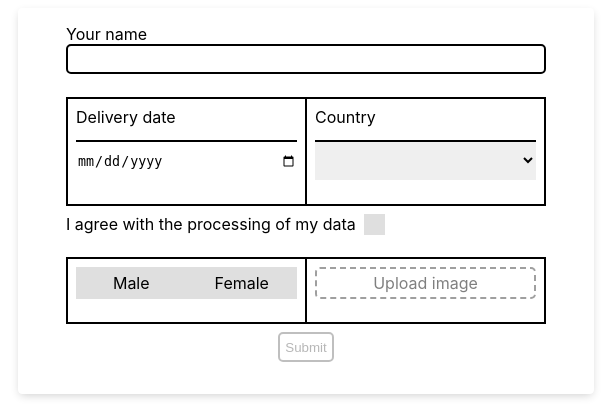
it: Form component works › submit button should be disabled with unfulfilled form
In the field: (306, 59) [66,44,546,74], type "Correct Name"
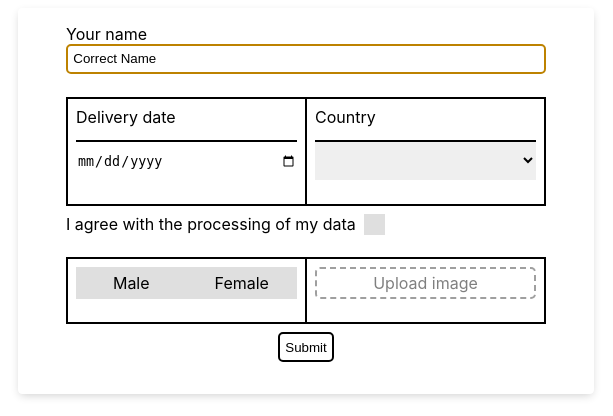
Click the button: (306, 347) [278,332,334,362]
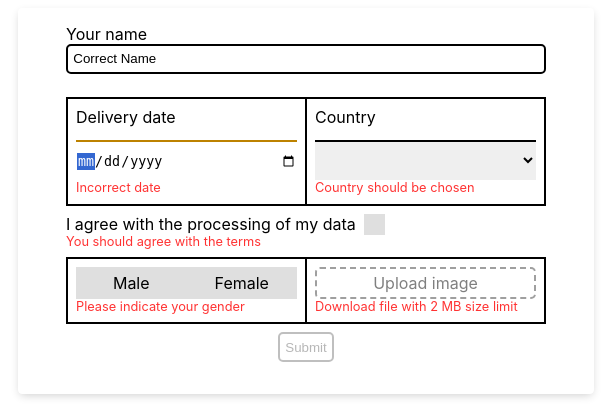
Check: the button is disabled, box [278,332,334,362]
